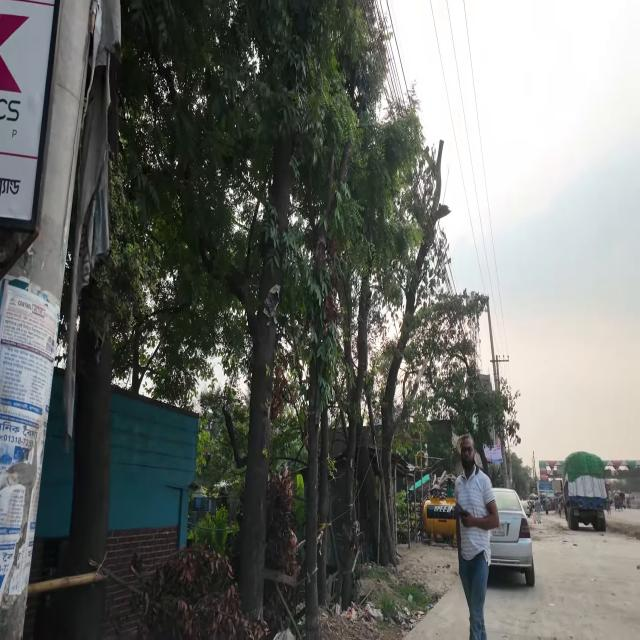person: (450, 435, 500, 640)
